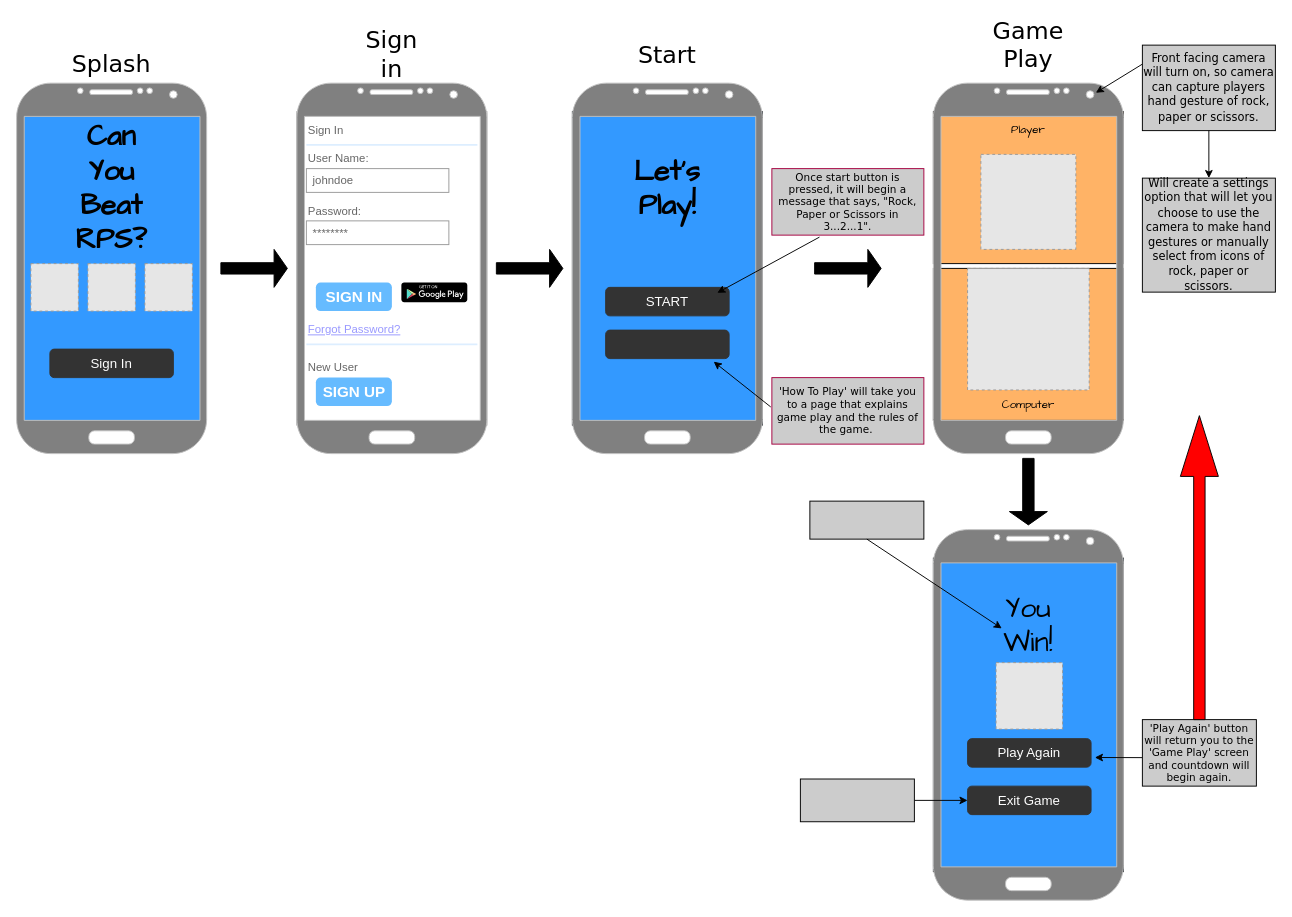
This 1292x917 diagram has some shape labels left out. Grey dashed boxes stand in for pictures. The shapes that lost their labels are listed below. From the top down, each one's box as (x1, y1, x2, y2) in pixels, then its label:
(605, 329, 729, 359): How To Play
(809, 500, 924, 539): Will display whether you win lose or draw.
(799, 778, 914, 822): 'Exit Game' will log you out of the game entirely.
